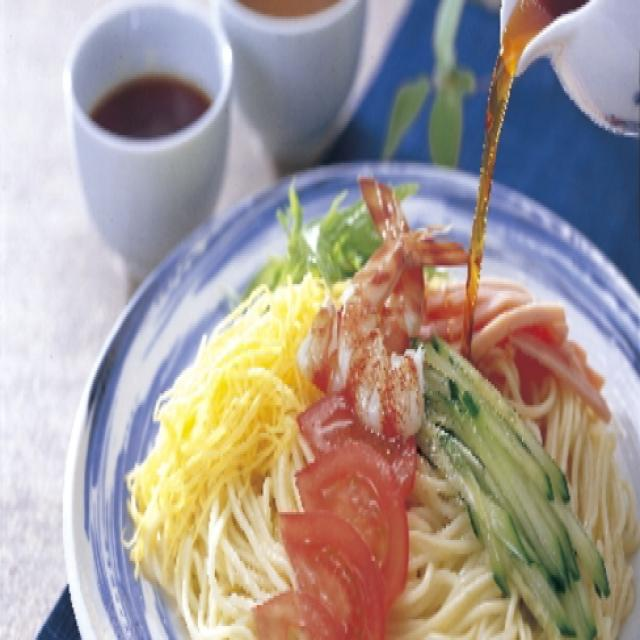面条主食: (75, 225, 640, 640)
